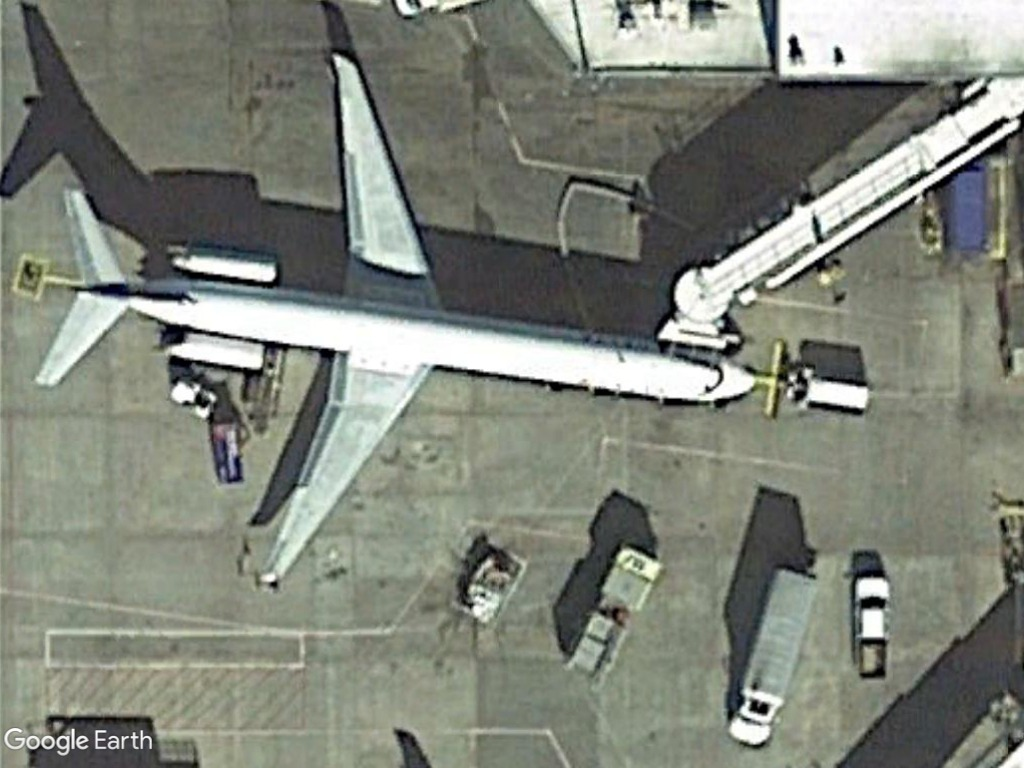chartered: (30, 40, 765, 592)
truck: (724, 566, 827, 751)
